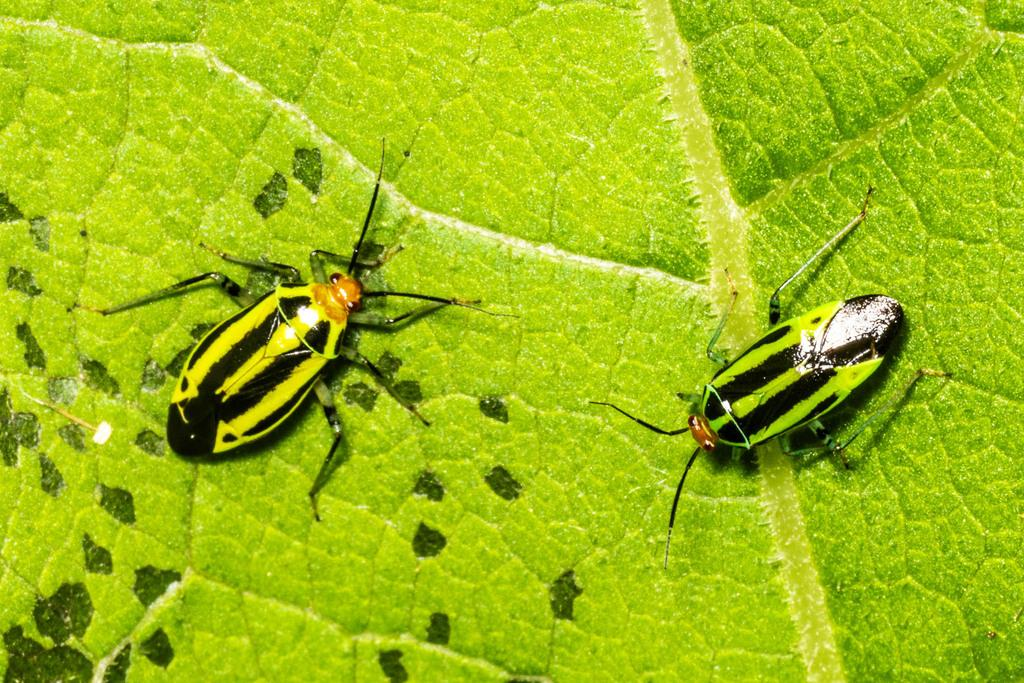plant_bugs: (52, 108, 554, 565), (566, 146, 987, 606)
